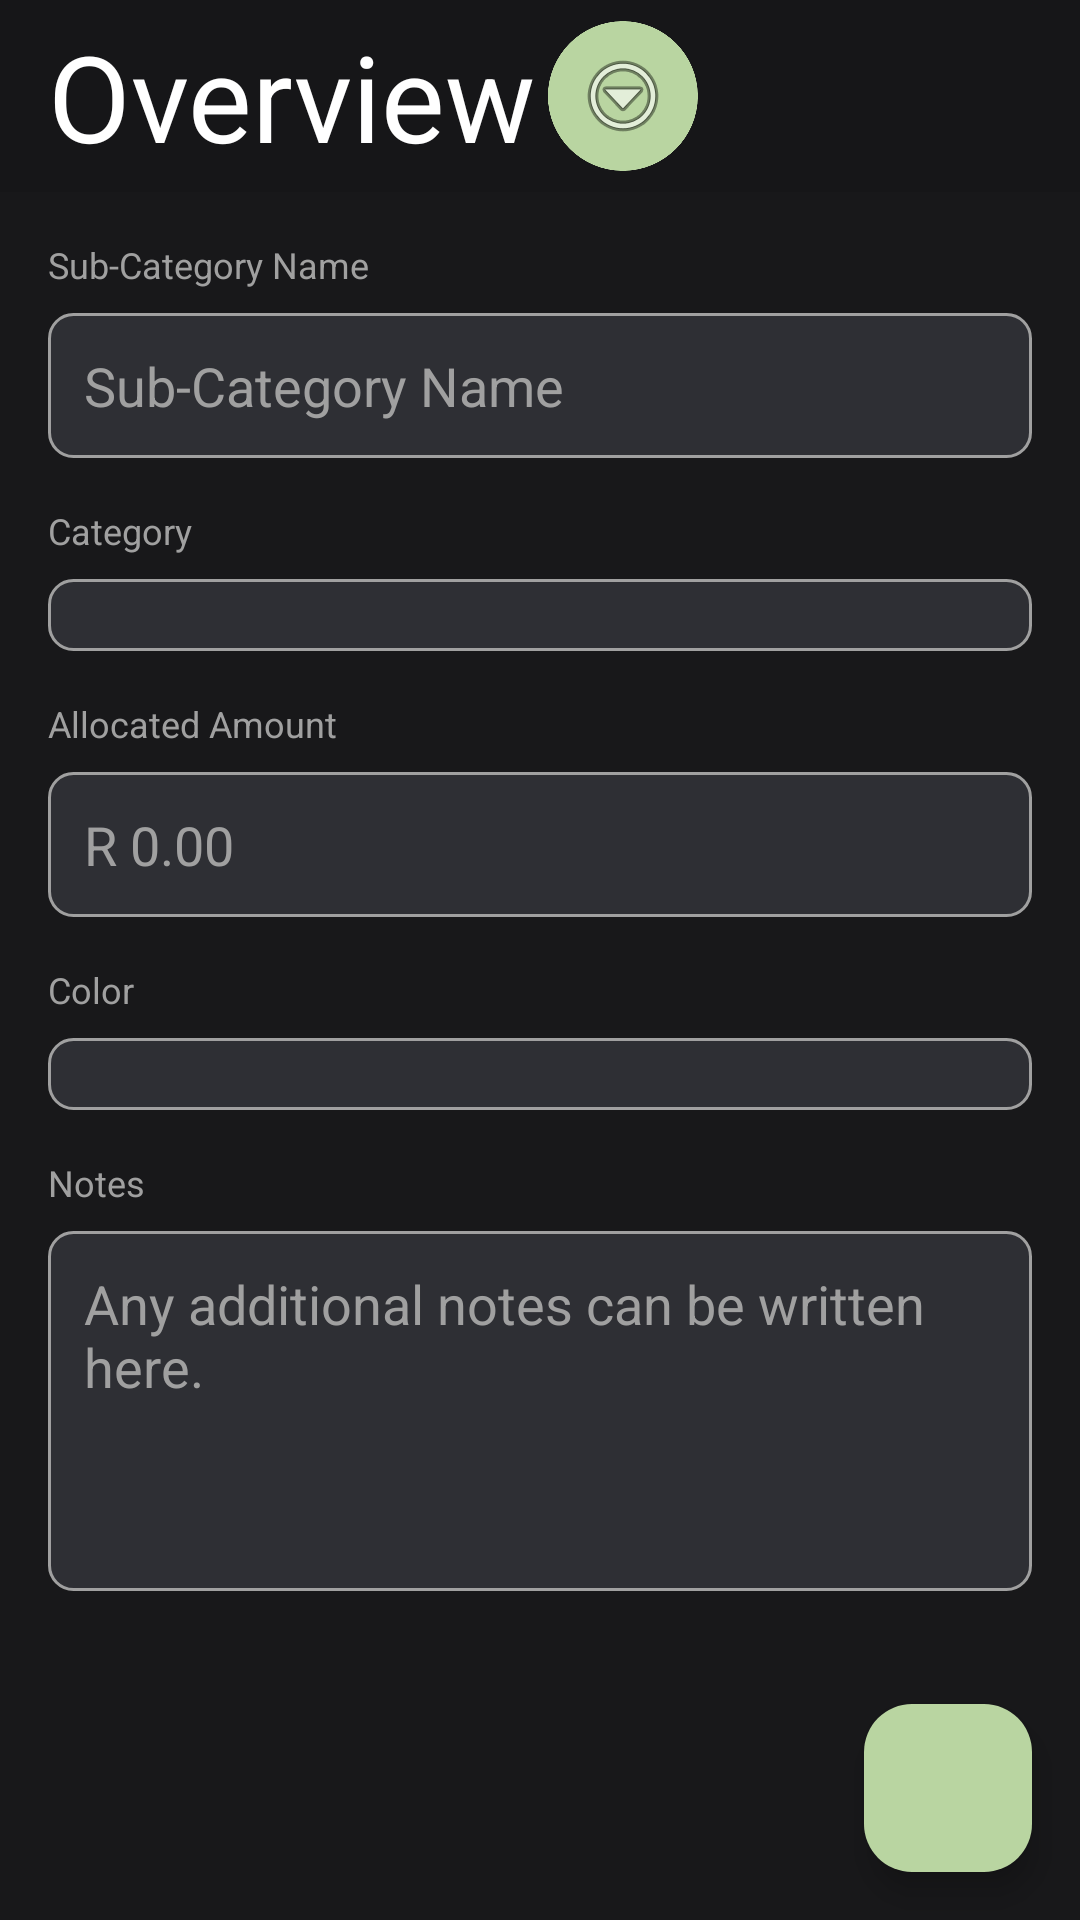

Where to tap for icons on this 1080 × 1920 app screen, as point (x, y):
Menu button: point (623, 96)
